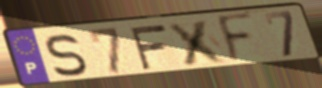7: (85, 25, 122, 77), (262, 9, 297, 60)
F: (215, 11, 256, 67), (127, 23, 170, 72)
S: (44, 32, 90, 79)
X: (165, 18, 231, 67)
